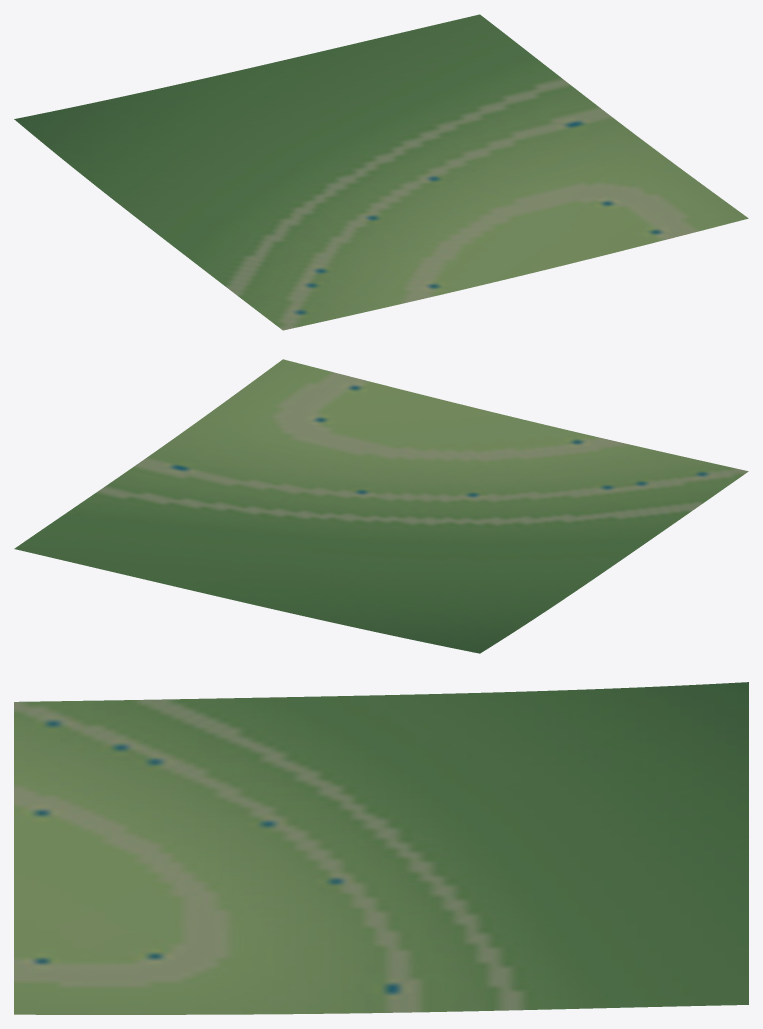
File: terrain_T_E02_N04.glb
3 renders of one model, top to bottom at view 1: azimuth 30°, elevation 25°; view 2: azimuth 150°, elevation 25°; view 3: azimuth 270°, elevation 25°, orthographic. The views are drawn at different scales.
Parts seen in each view (by area): view 1: Terrain_T_E02_N04; view 2: Terrain_T_E02_N04; view 3: Terrain_T_E02_N04.
Part boxes in pixels (x1=…): Terrain_T_E02_N04: x1=14, y1=14, x2=748, y2=330; Terrain_T_E02_N04: x1=14, y1=359, x2=748, y2=653; Terrain_T_E02_N04: x1=14, y1=682, x2=748, y2=1014.
Bounding box in the file's own units: 2000 × 73.37 × 2000.
1 material, 1 textured.
